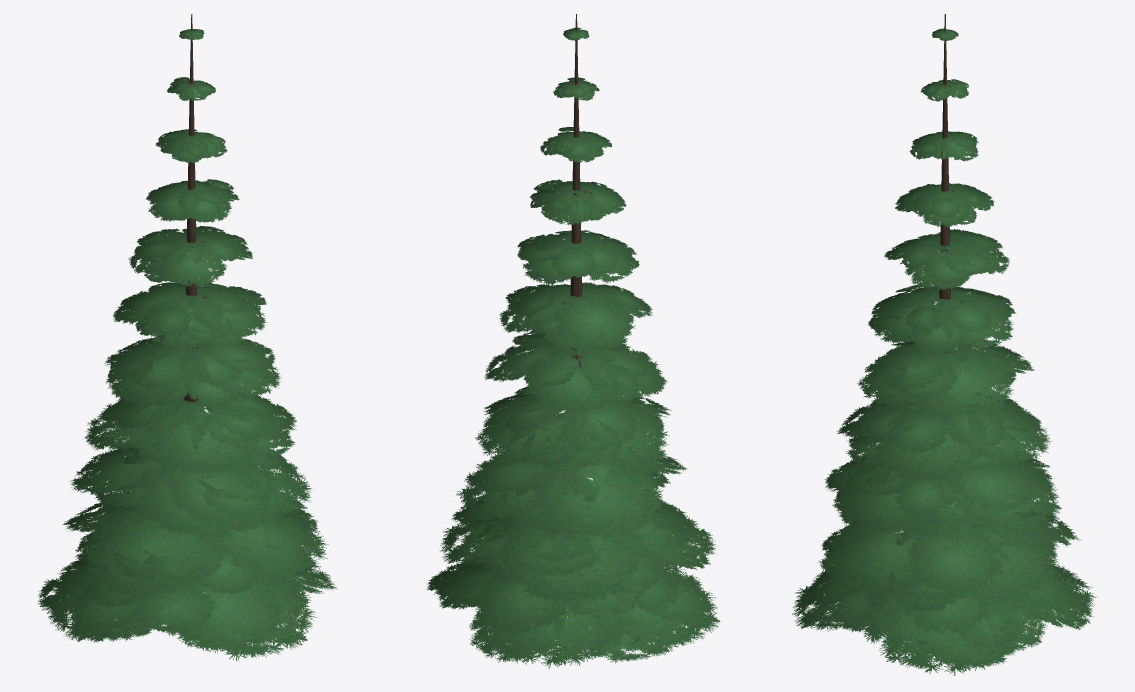
File: Spruce_LOD0.fbx
3 views of the same model, side by side, from view 1: azimuth 30°, elevation 25°; view 2: azimuth 150°, elevation 25°; view 3: azimuth 270°, elevation 25° (orthographic).
Parts seen in each view (by area): view 1: Spruce_LOD0; view 2: Spruce_LOD0; view 3: Spruce_LOD0.
Part boxes in pixels (x1=…): Spruce_LOD0: x1=38, y1=14, x2=337, y2=660; Spruce_LOD0: x1=426, y1=14, x2=720, y2=668; Spruce_LOD0: x1=792, y1=14, x2=1097, y2=675.
Bounding box in the file's own units: 10.52 × 20.95 × 10.67.
Materials: 1 (1 with a texture image).
